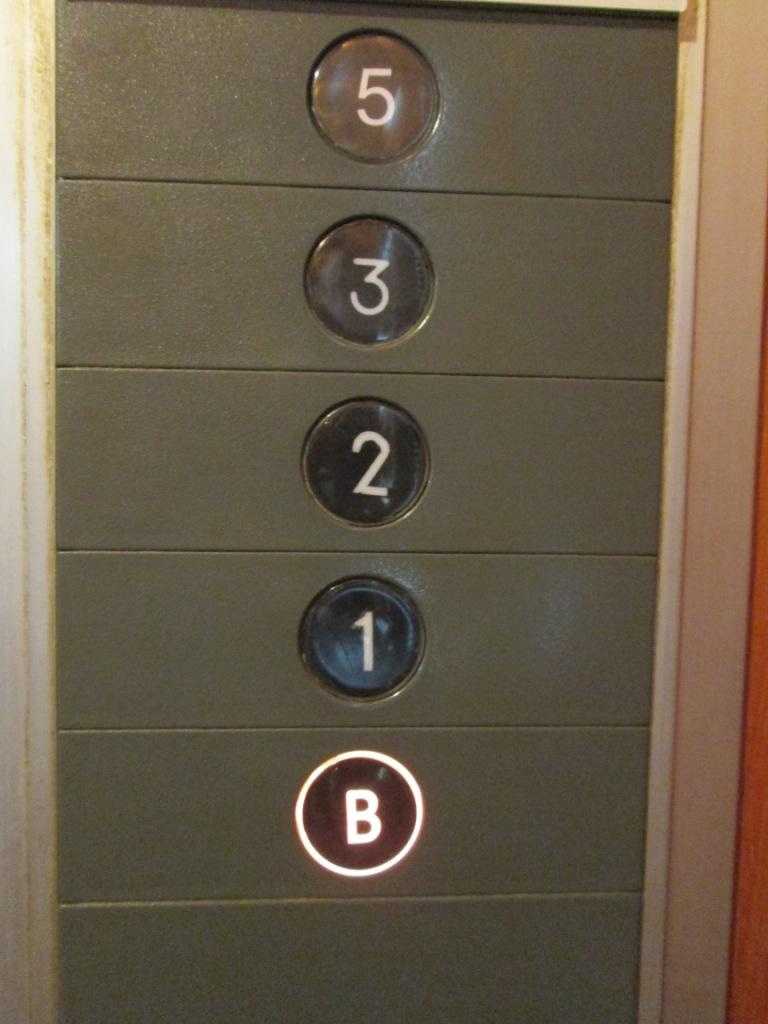1: (293, 570, 431, 705)
2: (298, 391, 433, 532)
3: (302, 210, 442, 352)
5: (306, 24, 444, 166)
B: (288, 746, 431, 878)
